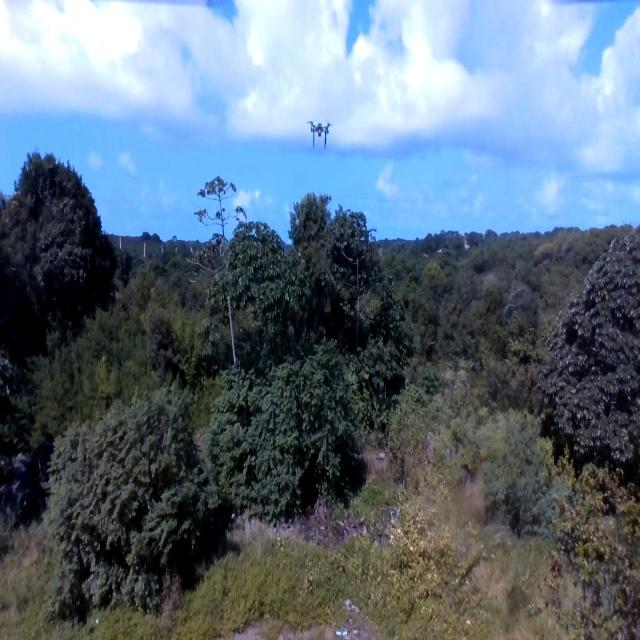-uav-: (304, 110, 333, 154)
